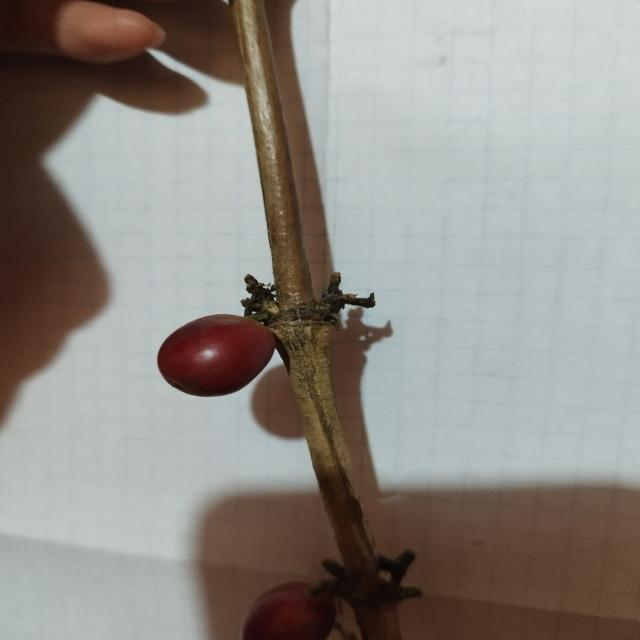Sano: (156, 316, 282, 400)
